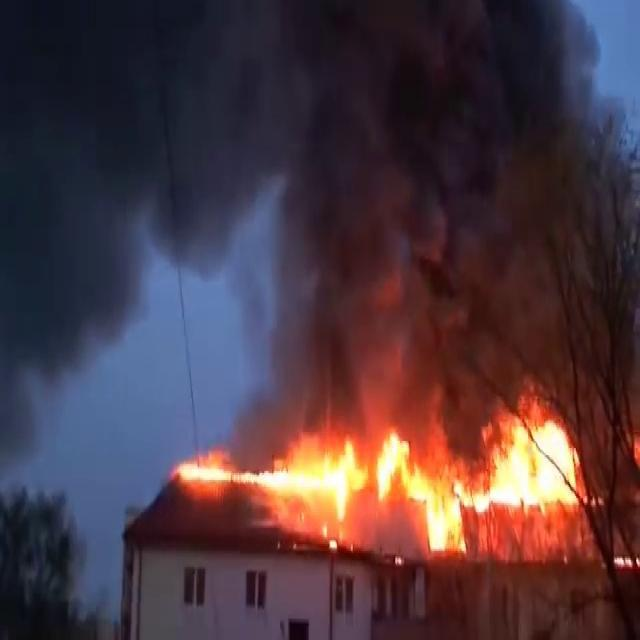Fire: (184, 413, 582, 554)
Smoke: (1, 1, 640, 408)
